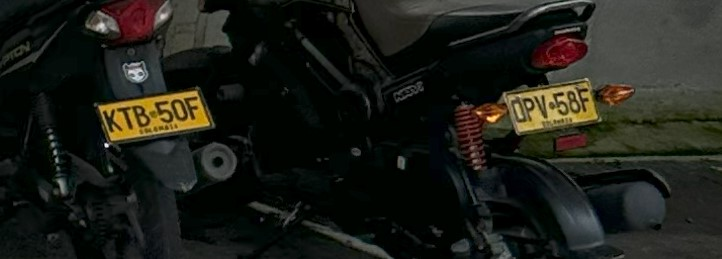number plate: (96, 88, 213, 142), (503, 78, 598, 134)
